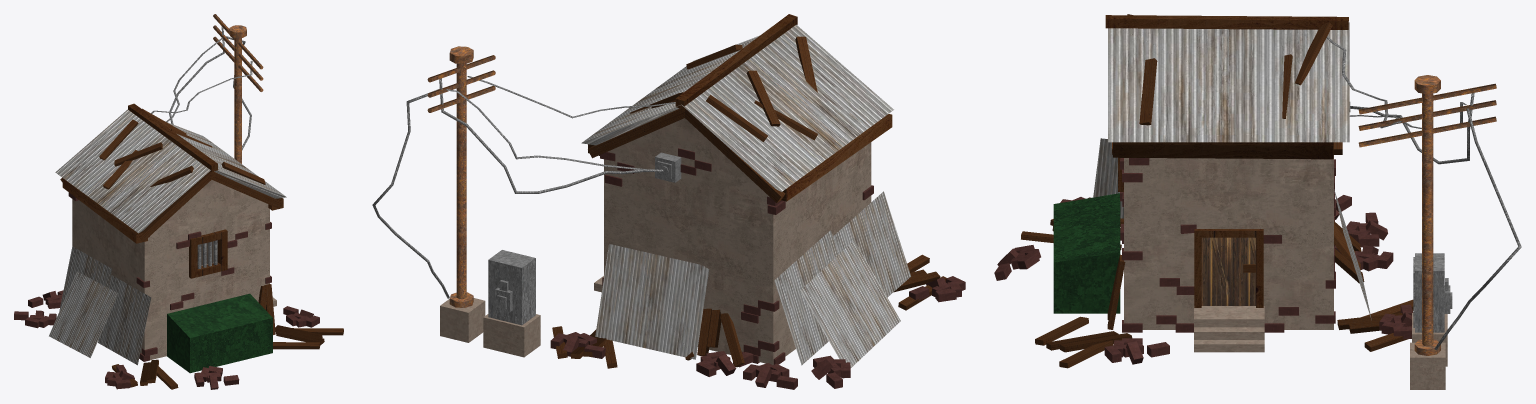
Rendered from vila062.glb.
3 renders of one model, left to right at view 1: azimuth 30°, elevation 25°; view 2: azimuth 150°, elevation 25°; view 3: azimuth 270°, elevation 25°, orthographic. The views are drawn at different scales.
Visible parts, largest first — view 1: Object_5, Object_6, Object_9, Object_8, Object_7, Object_4, Object_10, Object_13, Object_11; view 2: Object_5, Object_8, Object_6, Object_9, Object_4, Object_10, Object_12, Object_13; view 3: Object_5, Object_6, Object_9, Object_4, Object_7, Object_10, Object_2, Object_13, Object_12, Object_8.
Part boxes in pixels (x1,y1,x2,y2): Object_5: (72, 180, 276, 360); Object_6: (55, 109, 286, 233); Object_9: (60, 103, 343, 389); Object_8: (49, 246, 151, 365); Object_7: (167, 293, 272, 373); Object_4: (14, 192, 319, 389); Object_10: (213, 14, 263, 163); Object_13: (151, 26, 252, 150); Object_11: (197, 240, 217, 268); Object_5: (440, 118, 871, 364); Object_8: (595, 191, 910, 367); Object_6: (581, 24, 893, 191); Object_9: (552, 14, 946, 368); Object_4: (550, 148, 965, 389); Object_10: (427, 46, 495, 307); Object_12: (488, 152, 681, 325); Object_13: (372, 76, 707, 298); Object_5: (1124, 155, 1447, 389); Object_6: (1108, 22, 1349, 142); Object_9: (1021, 14, 1413, 368); Object_4: (994, 158, 1413, 364); Object_7: (1053, 193, 1120, 313); Object_10: (1358, 75, 1496, 355); Object_2: (1201, 237, 1255, 305); Object_13: (1326, 36, 1521, 350); Object_12: (1349, 102, 1452, 332); Object_8: (1093, 138, 1371, 320).
Size of the model in its own units: 10.08 by 7.09 by 10.91.
Materials: 11 (11 with a texture image).
